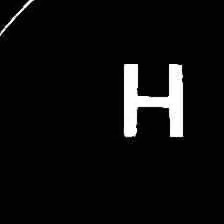LTR_H: (115, 53, 190, 144)
